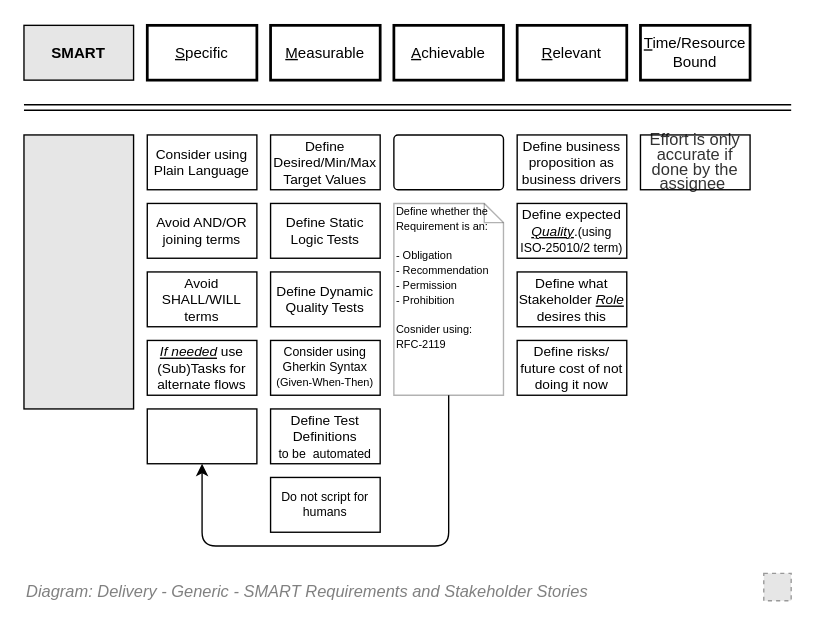
Some shapes in this 815 by 630 pixel diagram are drawn without their labels. Grey dashed boxes stand in for pictures. The centre of each missing label's shape, as x and y in pixels:
Define Level of Requirement (RFC 2119 ): the point at 201,436
Recommendations: the point at 78,271
Use Test Statements as Delivery Contract: the point at 448,162
